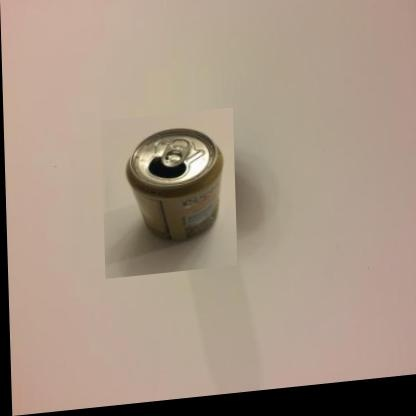trash: (126, 128, 222, 239)
